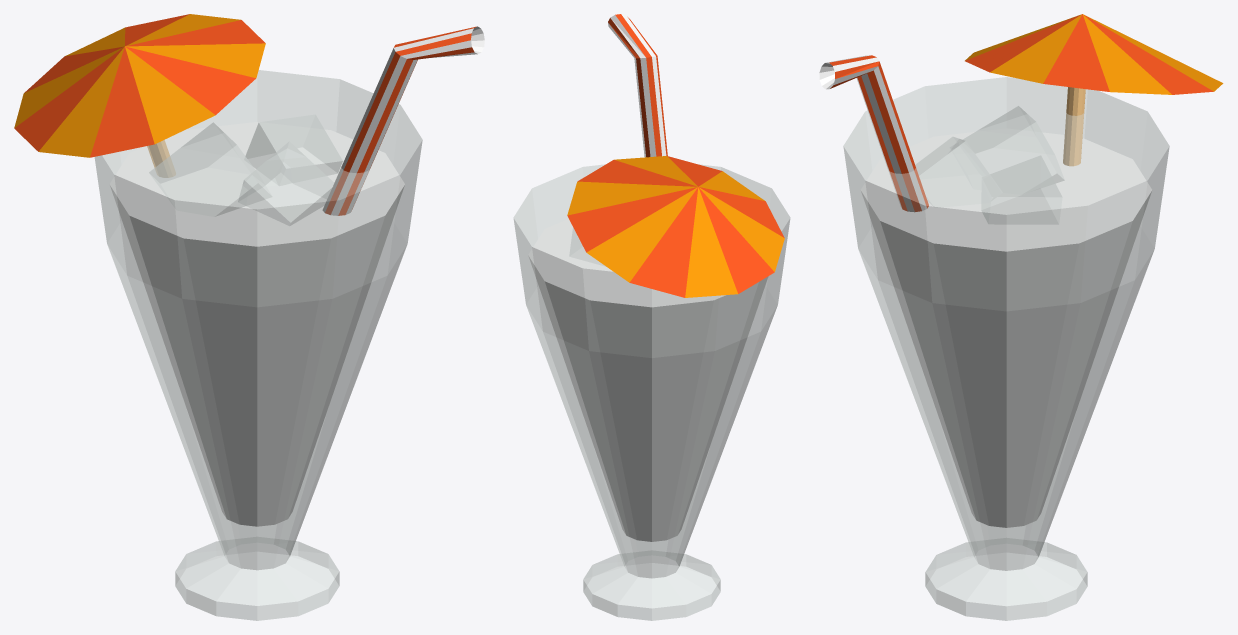
File: drink-1.glb
3 renders of one model, left to right at view 1: azimuth 30°, elevation 25°; view 2: azimuth 150°, elevation 25°; view 3: azimuth 270°, elevation 25°, orthographic. The views are drawn at different scales.
Parts seen in each view (by area): view 1: Node; view 2: Node; view 3: Node.
Part boxes in pixels (<box>): Node: <box>14,14,484,620</box>; Node: <box>513,14,790,620</box>; Node: <box>819,14,1223,620</box>.
Size of the model in its own units: 0.2292 by 0.3983 by 0.2492.
